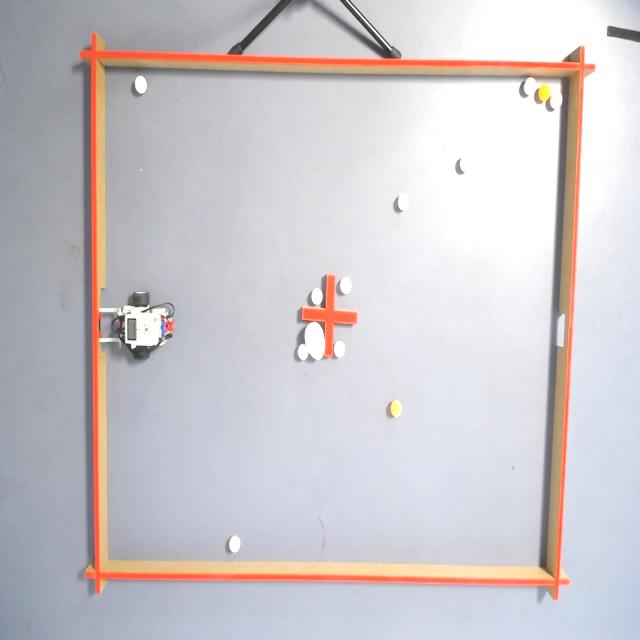boundaries: (542, 43, 596, 608), (75, 28, 598, 82), (82, 553, 570, 602), (77, 26, 111, 596)
cross: (300, 274, 358, 359)
egg: (304, 322, 328, 362)
large_goal: (80, 268, 116, 381)
orange_ball: (535, 80, 552, 104), (388, 398, 404, 419)
robot: (96, 288, 176, 359)
small_goal: (544, 295, 580, 368)
white_ball: (225, 531, 244, 555), (548, 89, 564, 113), (457, 150, 473, 174), (395, 190, 410, 215), (523, 76, 538, 97), (310, 284, 322, 308), (340, 275, 353, 297), (134, 74, 147, 96), (297, 343, 309, 363), (334, 340, 346, 360)
